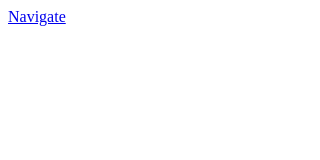
Scenario: usePrompt › when navigation is blocked › shows window.confirm and navigates when it returns true
Click the link "Navigate".
click(37, 16)  # box top-left (8, 8), bottom-right (66, 25)
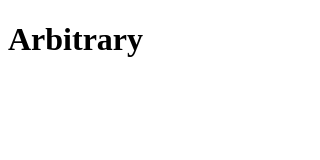
Result: the heading "Arbitrary" is shown at top-left (8, 21), bottom-right (143, 57)
